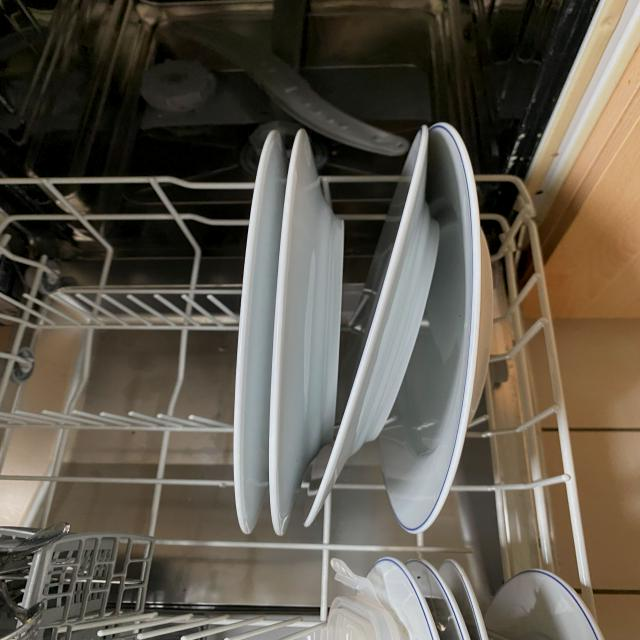empty_slot: (4, 198, 222, 521)
